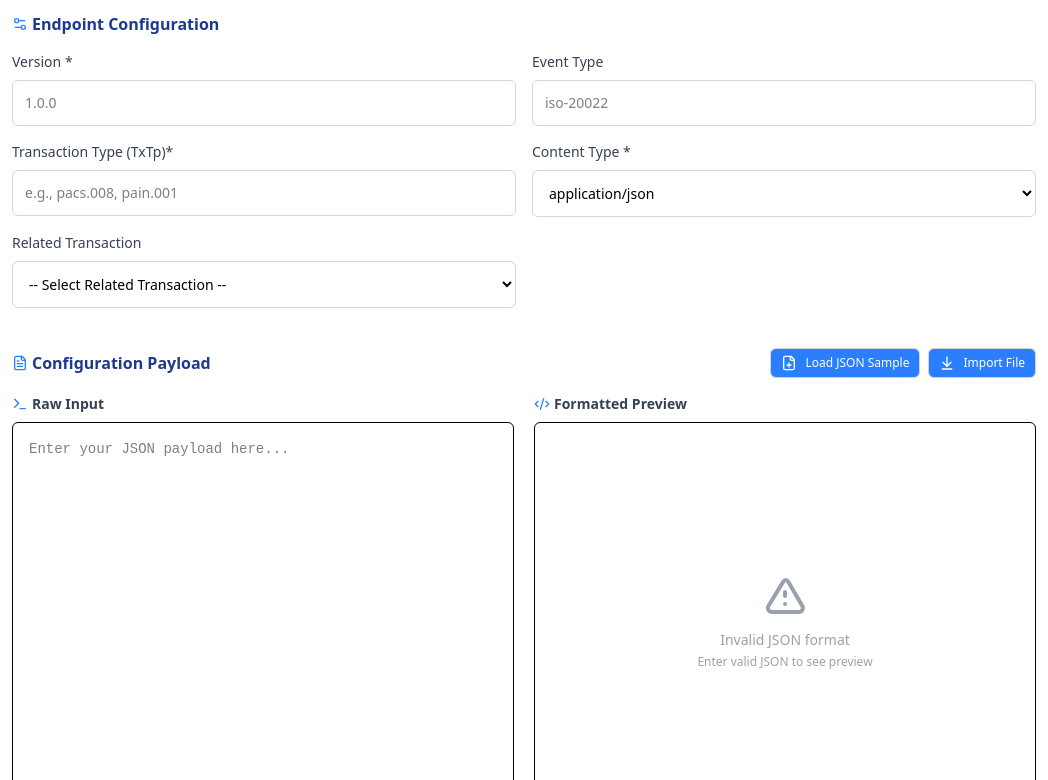
Scenario: shared/components/PayloadEditor.tsx › sanitizes endpoint inputs and renders endpoint preview
This screenshot has width=1048, height=780.
Step 1. Type " v1.2.3 " into the field labelled "Version *" → (264, 103), box [12,80,516,126]
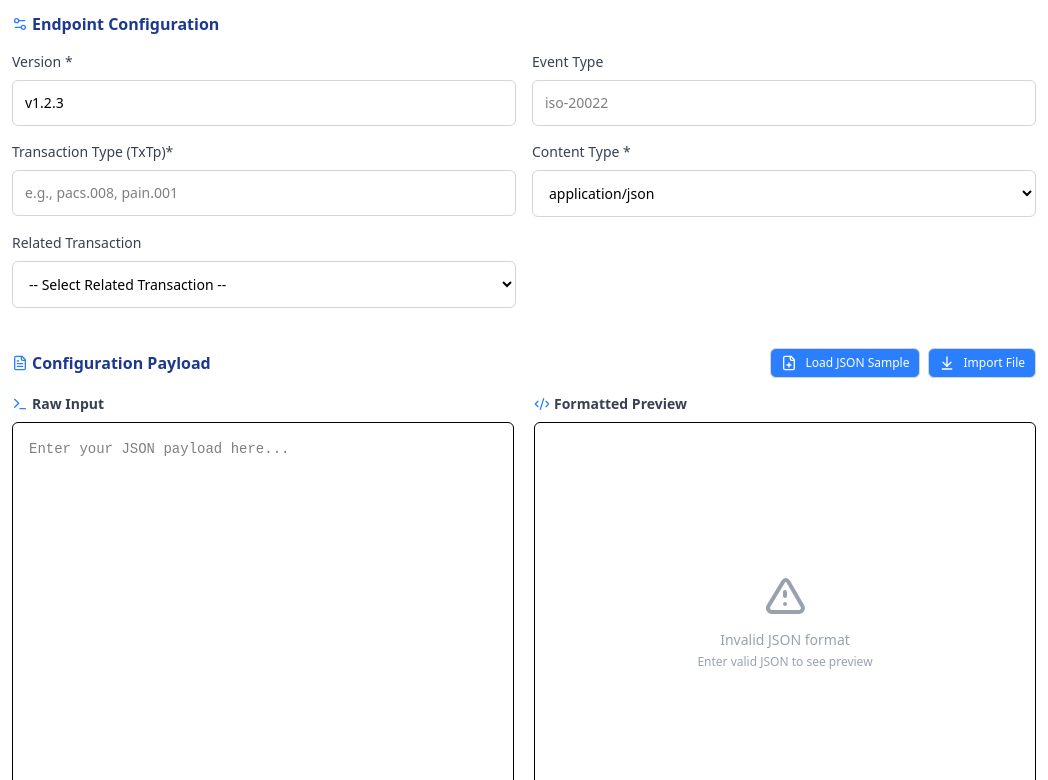
Step 2. Type "PACS_008" into the field labelled "Transaction Type (TxTp)*" → (264, 193), box [12,170,516,216]
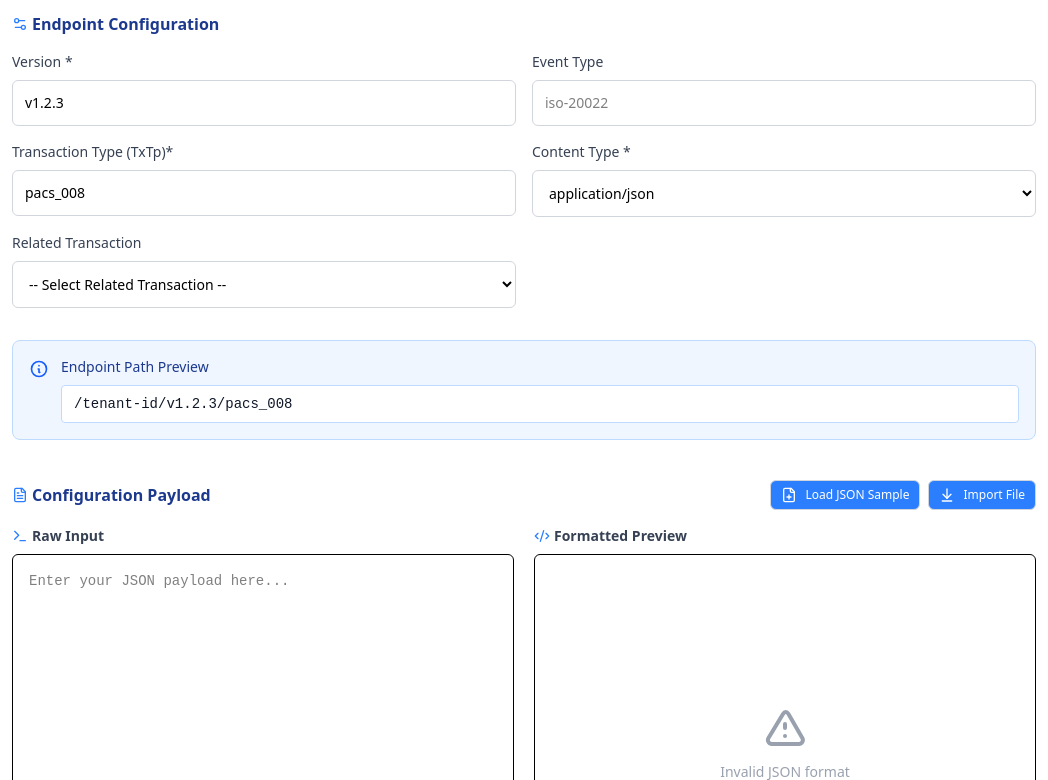
Now the heading "Endpoint Path Preview" is shown, box [61,357,209,376]
Now the text "/tenant-id/v1.2.3/pacs_008" is shown, box [61,385,1019,423]
